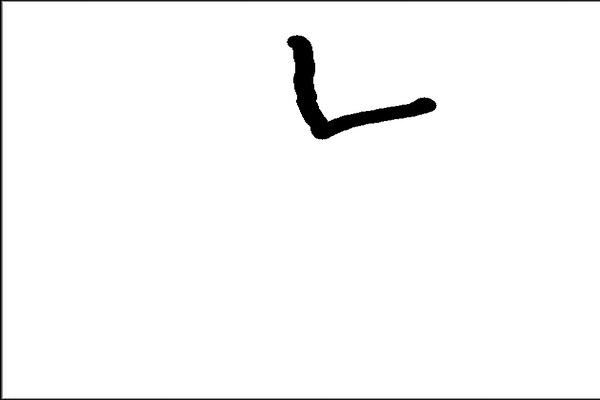L: (280, 26, 440, 140)
